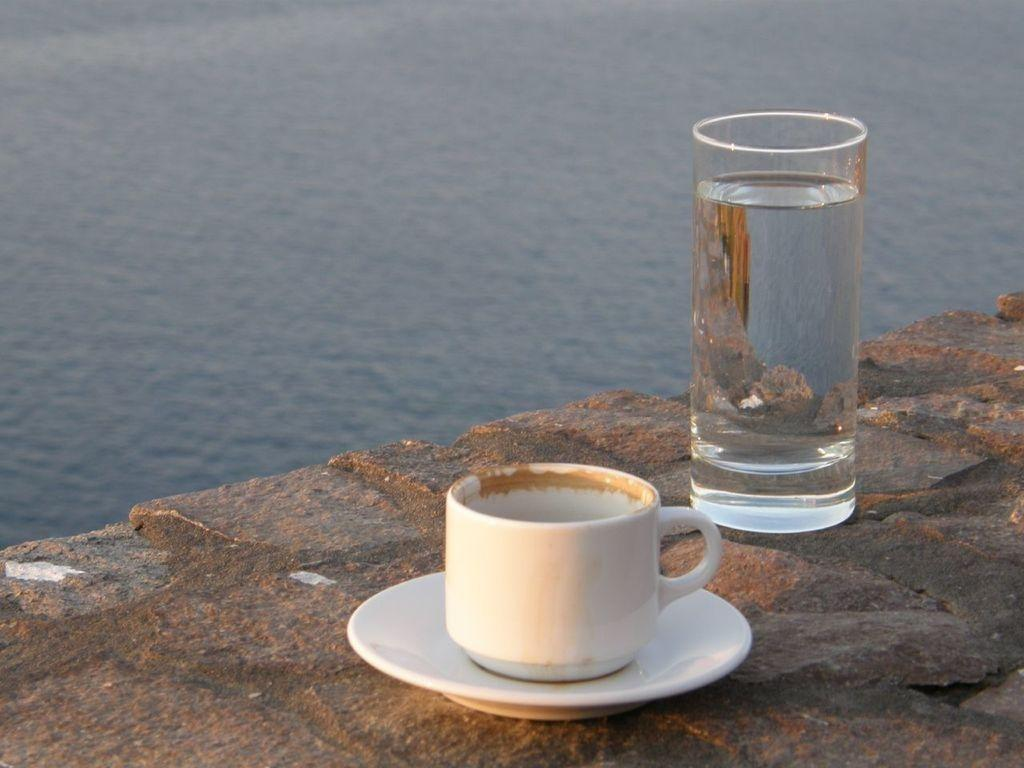cup-handle: (442, 459, 727, 685)
glass-normal: (685, 108, 870, 534)
